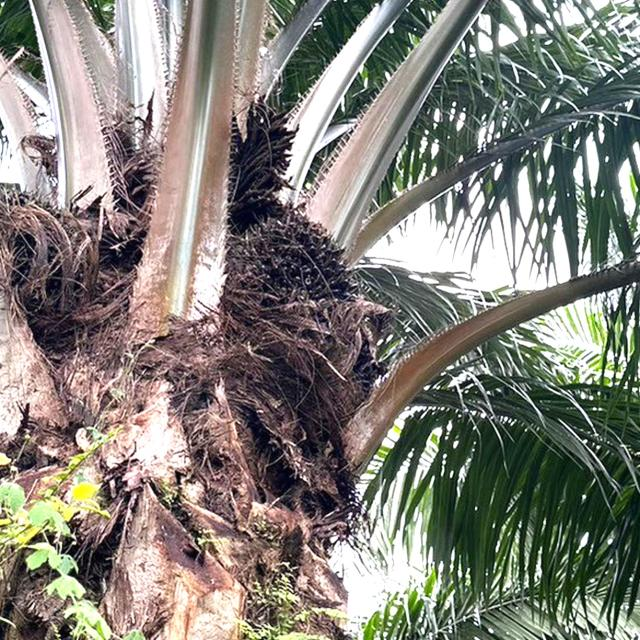unripe: (215, 198, 366, 344)
